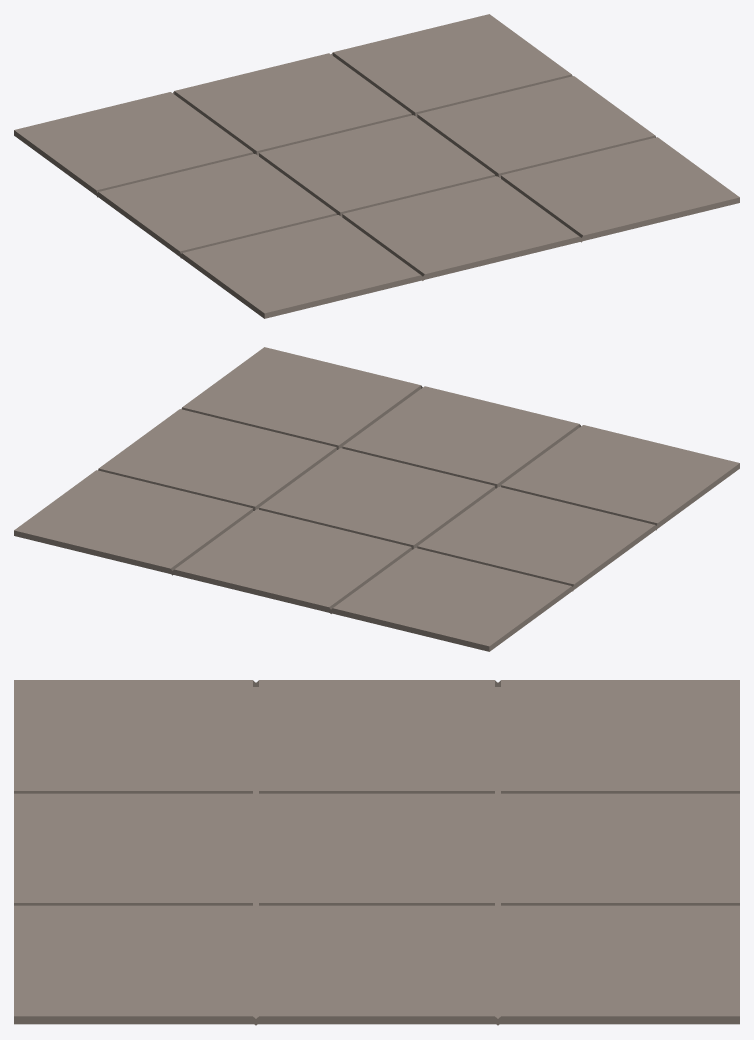
Rendered from floor_2.glb.
3 renders of one model, top to bottom at view 1: azimuth 30°, elevation 25°; view 2: azimuth 150°, elevation 25°; view 3: azimuth 270°, elevation 25°, orthographic. The views are drawn at different scales.
Visible parts, largest first — view 1: floor_2; view 2: floor_2; view 3: floor_2.
Part boxes in pixels (<box>): floor_2: <box>14,14,739,318</box>; floor_2: <box>14,347,739,651</box>; floor_2: <box>14,680,739,1025</box>.
Size of the model in its own units: 1.53 by 0.0203 by 1.4.
1 material, 1 textured.
